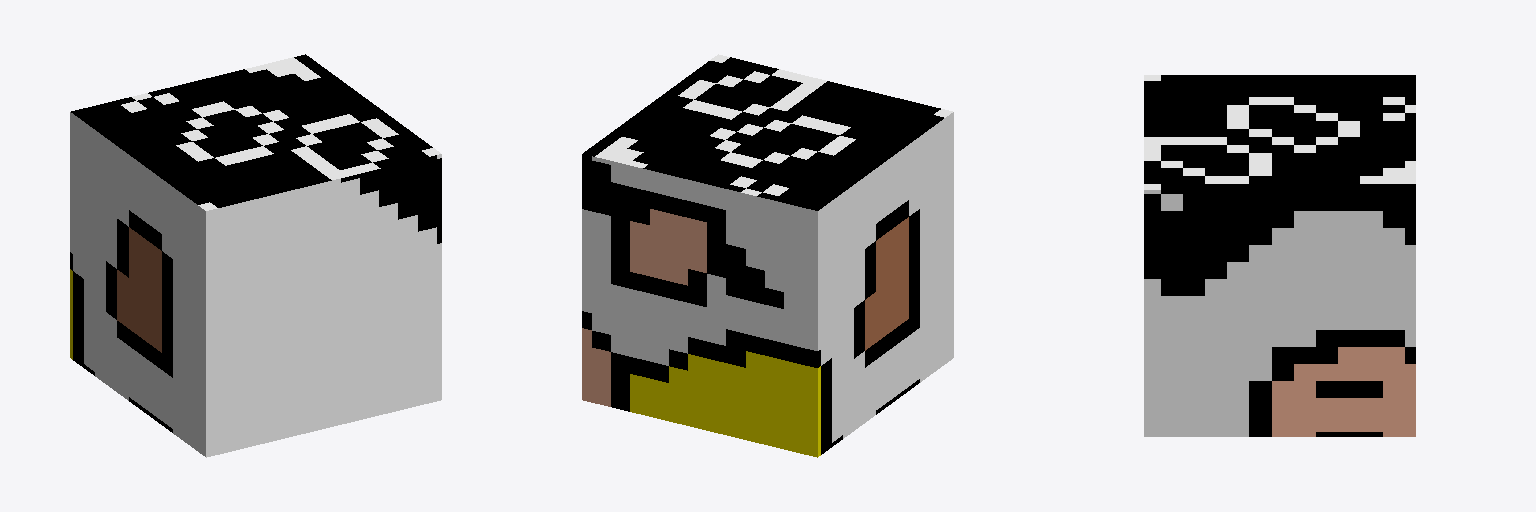
The picture shows the model from 3 angles: view 1: azimuth 30°, elevation 25°; view 2: azimuth 150°, elevation 25°; view 3: azimuth 270°, elevation 25°; orthographic projection.
Parts seen in each view (by area): view 1: Cube_Cube.001; view 2: Cube_Cube.001; view 3: Cube_Cube.001.
Boxes of the visible parts, box(x1,y1,x2,y2) form: Cube_Cube.001: box(70, 54, 441, 457); Cube_Cube.001: box(582, 54, 953, 457); Cube_Cube.001: box(1144, 75, 1415, 436).
Size of the model in its own units: 50 by 50 by 50.
Materials: 1 (1 with a texture image).